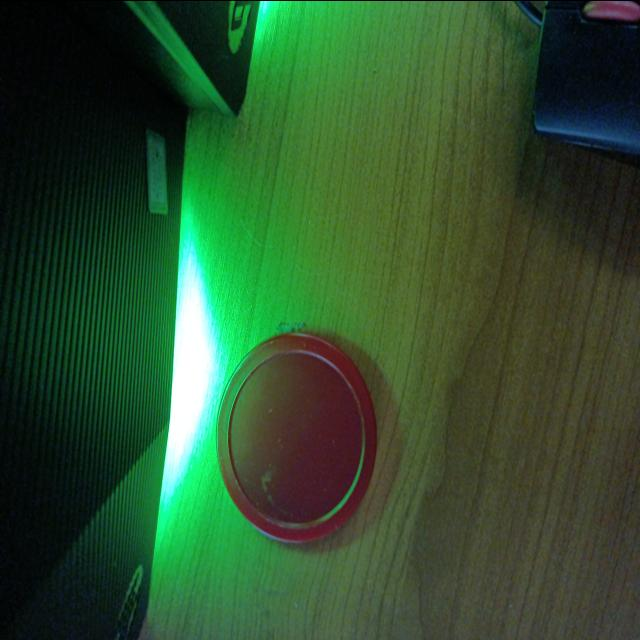chip: (212, 320, 378, 548)
